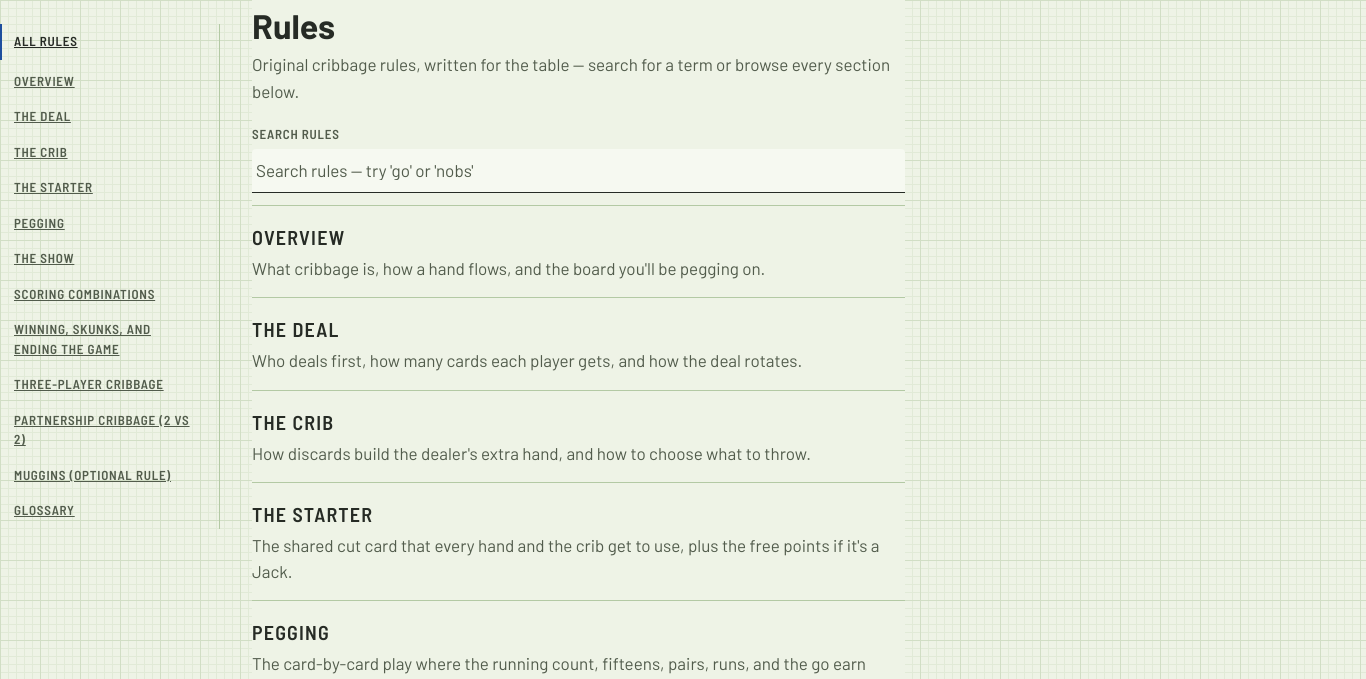
Test: RulesIndexPage › shows a result count and result rows for a real query
Type "nobs" into the search field with placeholder "Search rules — try 'go' or 'nobs'".
click(579, 171); type("nobs")  # box [252,149,905,193]
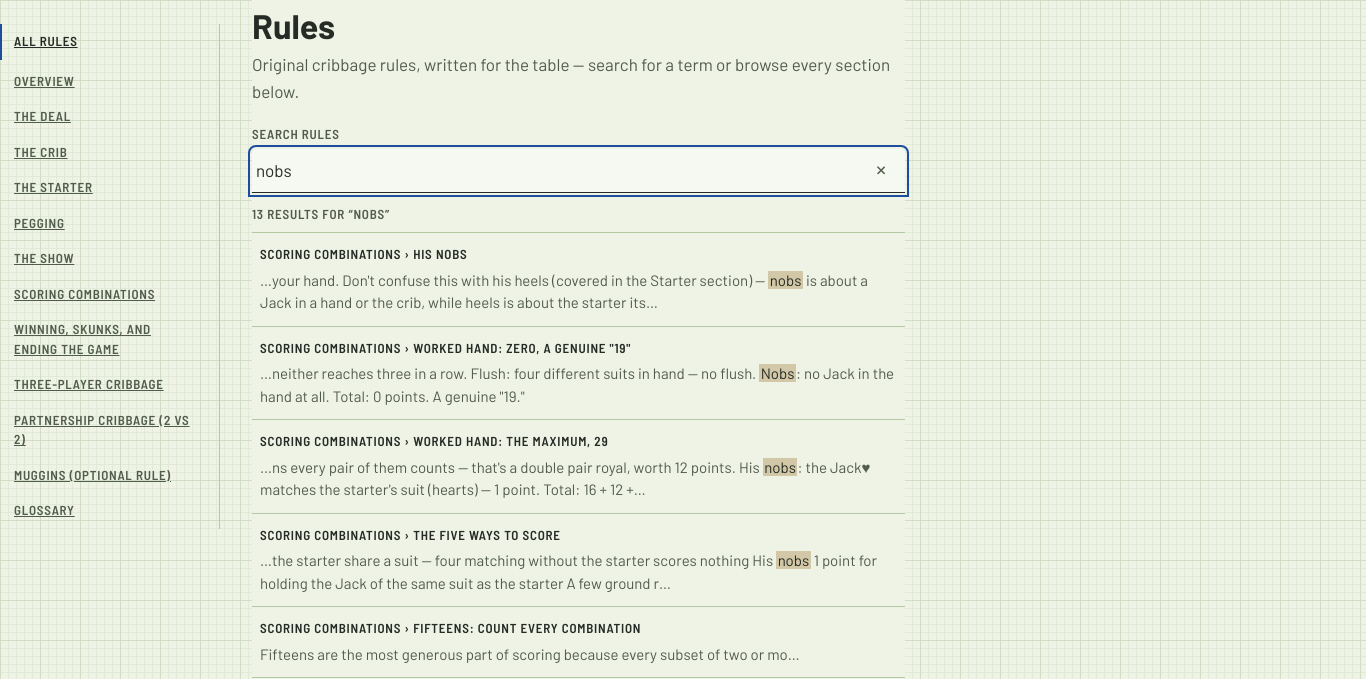
Expected: the text "13 results for “nobs”" is shown, [252,206,390,222]
